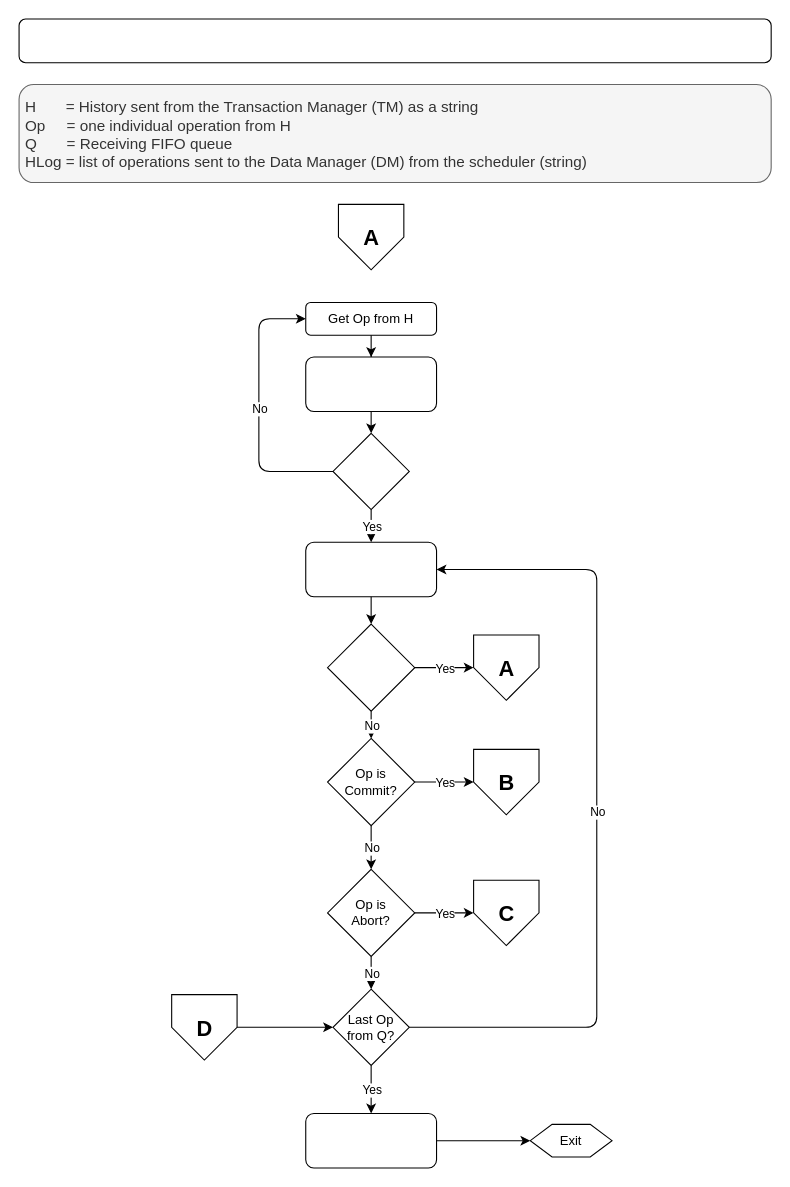
Image size: 790x1187. Some labels were removed from this diagram. Here are the shapes that lost their labels. From the top down, the centre of each, then its label:
At [394,40]: "Process Read or Write Operation".
At [371,383]: "push Op to Q".
At [370,471]: "Last Op from H?".
At [371,569]: "pop Op from Q".
At [370,667]: "Op is Read or Write?".
At [371,1140]: "Save Logs".
